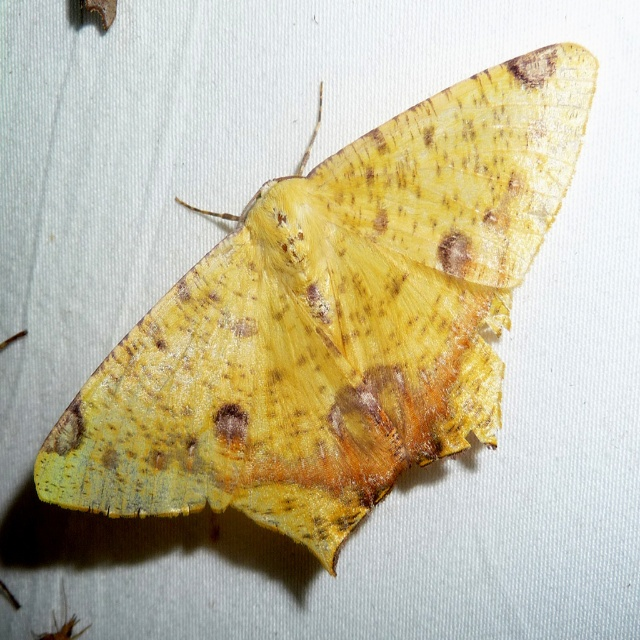Butterfly: (34, 43, 595, 573)
